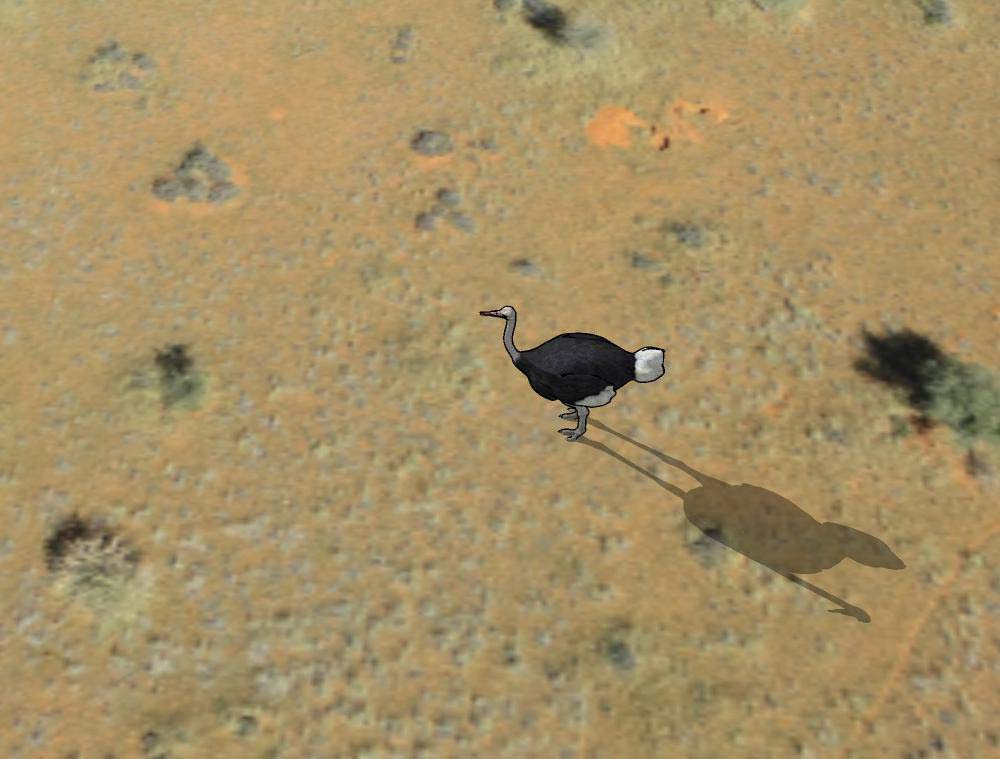ostrich: (476, 291, 674, 446)
